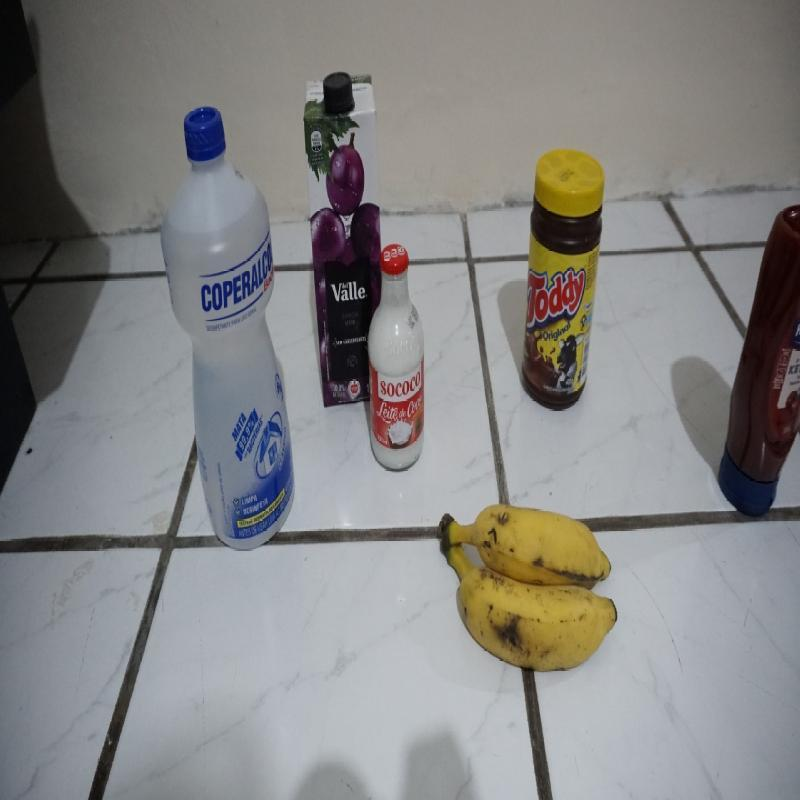Alcohol Bottle: (160, 102, 297, 553)
Banana: (434, 504, 622, 673)
Chocolate Powder: (520, 148, 606, 412)
Coconut Milk: (366, 244, 428, 470)
Ketchup: (717, 199, 800, 522)
